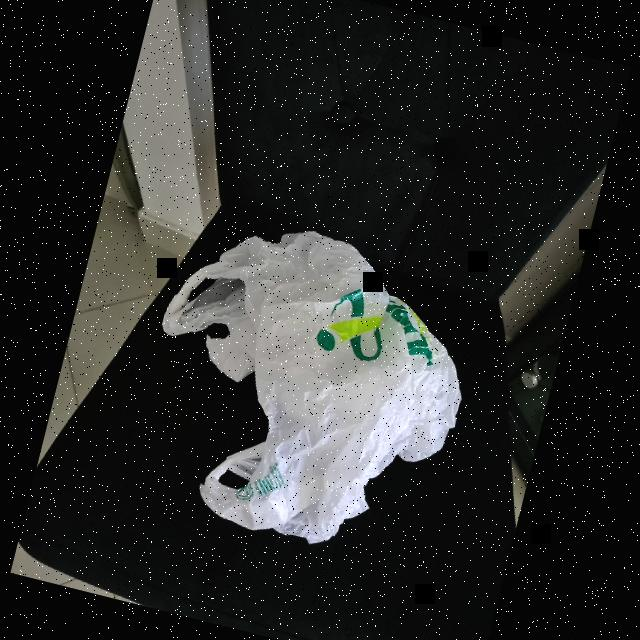plastic_bag: (109, 189, 534, 588)
